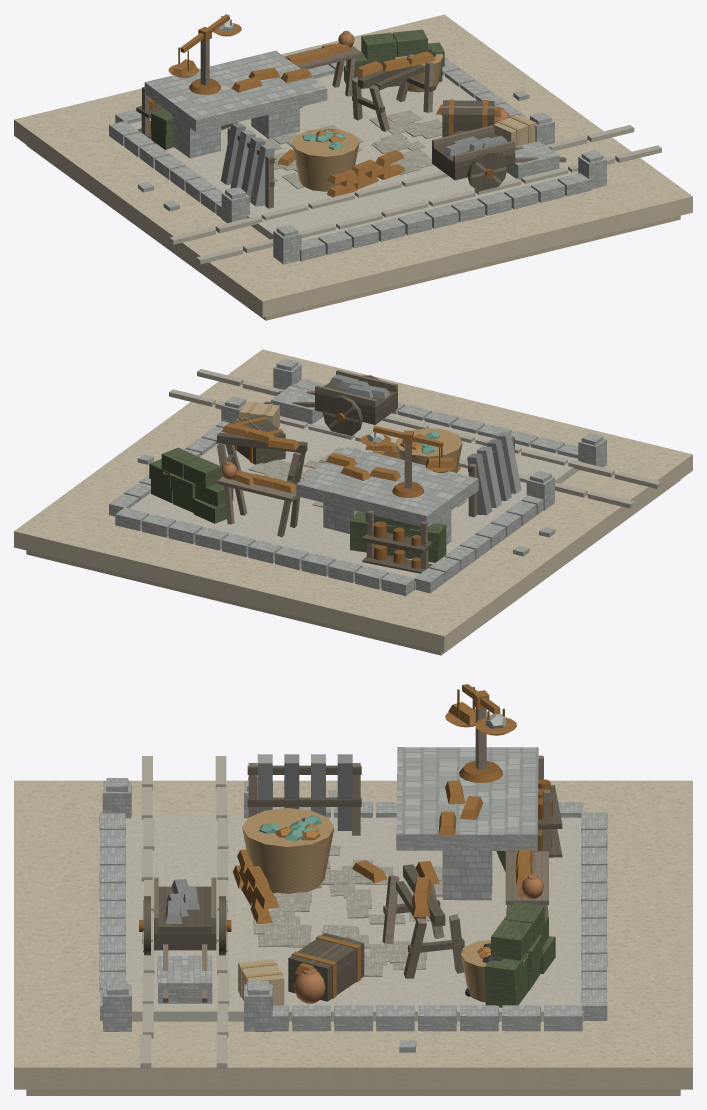
The model's file is lin-5-built.glb.
The picture shows the model from 3 angles, top to bottom: view 1: azimuth 30°, elevation 25°; view 2: azimuth 150°, elevation 25°; view 3: azimuth 270°, elevation 25°; orthographic projection. The views are drawn at different scales.
Bounding box in the file's own units: 26.78 × 8.16 × 25.
Materials: 30 (18 with a texture image).
